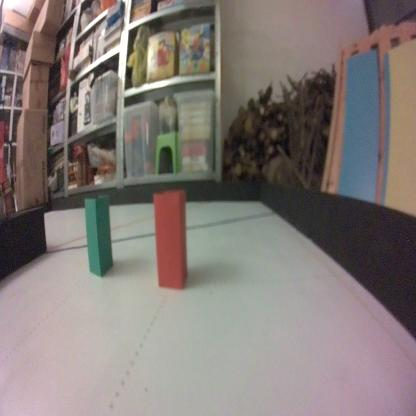green: (83, 193, 115, 280)
red: (151, 186, 190, 293)
